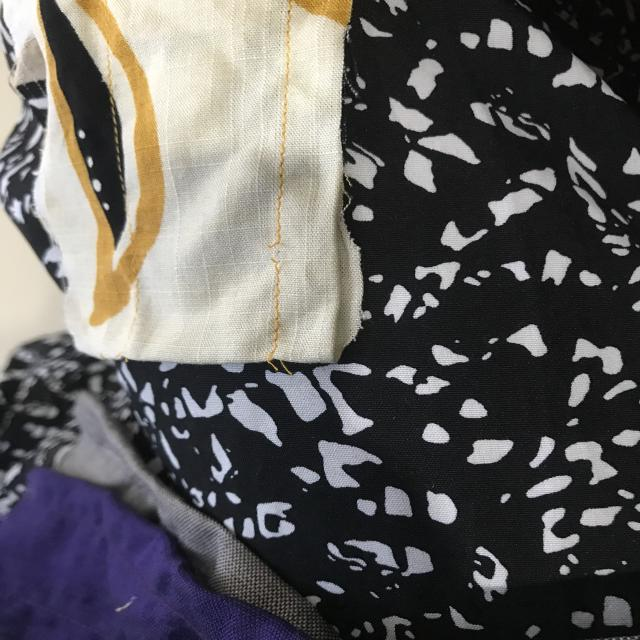broken: (262, 234, 292, 274)
